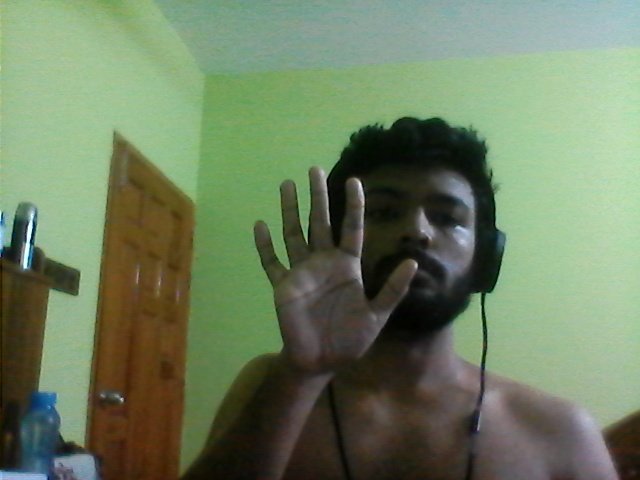Hello: (232, 157, 428, 383)
